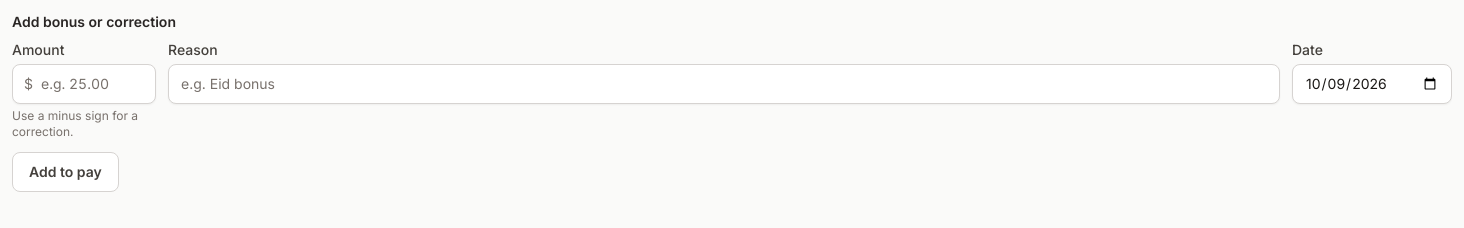
Scenario: AdjustmentForm and WageEditor › shows each validation error under its own field, tied to the input
Clear the date field labelled "Date" at coordinates (1372, 84), box x1=1292 y1=64 x2=1452 y2=104
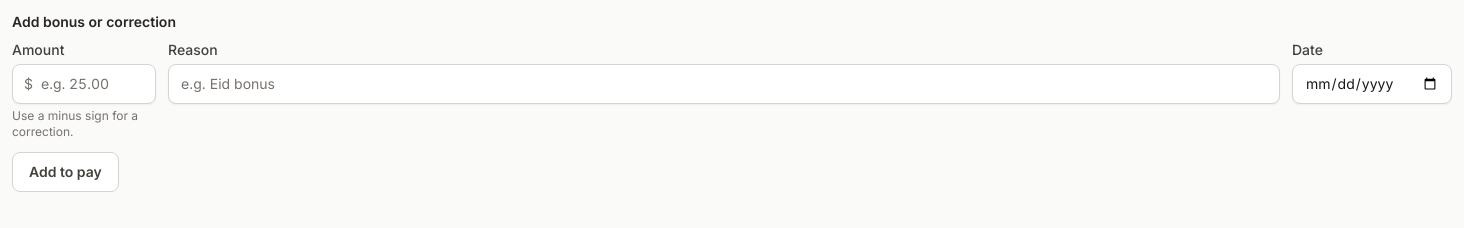
Click the button "Add to pay" at coordinates (65, 172), box x1=12 y1=152 x2=119 y2=192
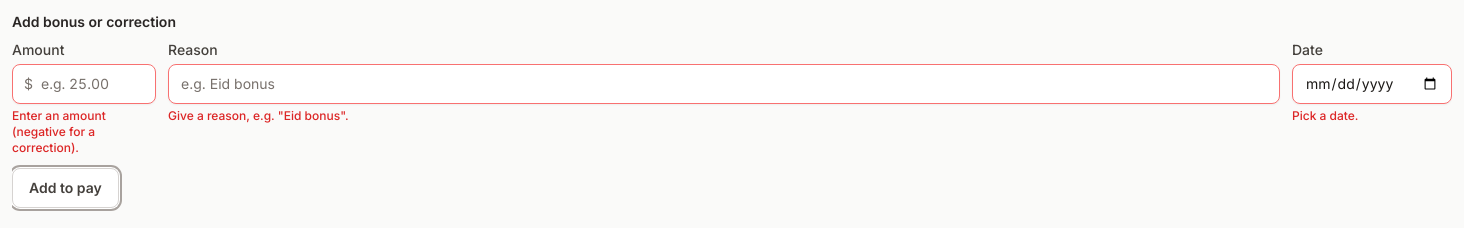
Now the element labelled "Amount" shows "Enter an amount (negative for a correction).", box x1=12 y1=108 x2=106 y2=155
Now the element labelled "Reason" shows "Give a reason, e.g. \"Eid bonus\".", box x1=168 y1=108 x2=349 y2=123
Now the element labelled "Date" shows "Pick a date.", box x1=1292 y1=108 x2=1358 y2=123
